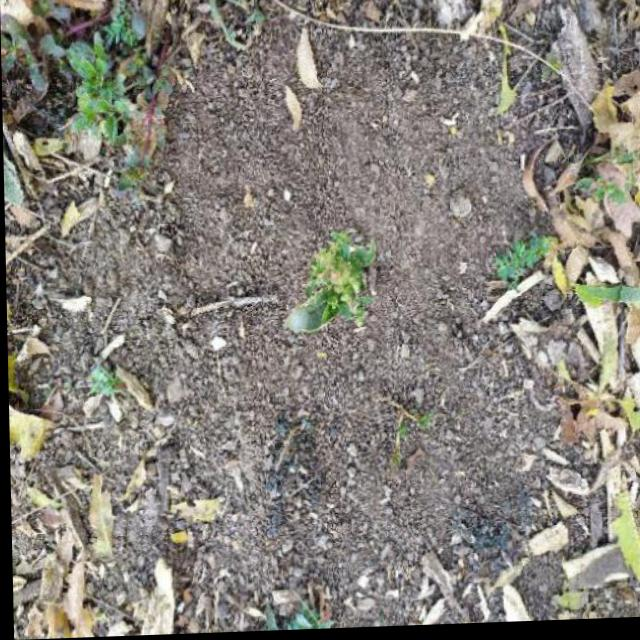weed: (274, 229, 395, 362)
